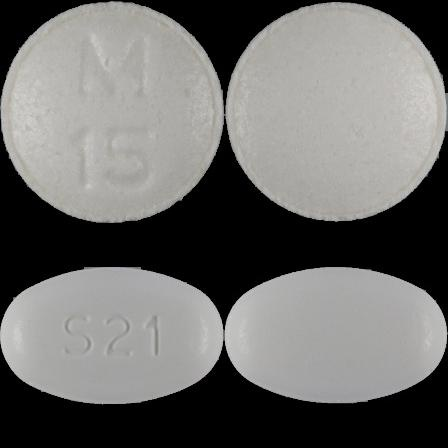43063-089: (0, 0, 224, 224)
